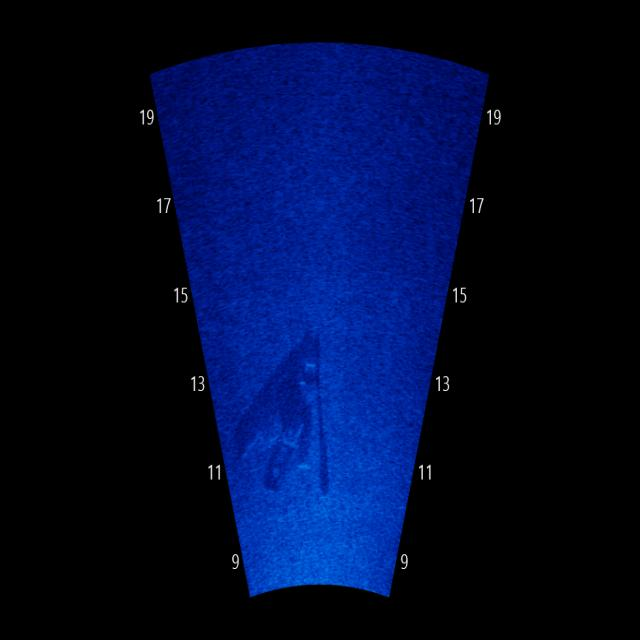triangle: (232, 324, 342, 500)
